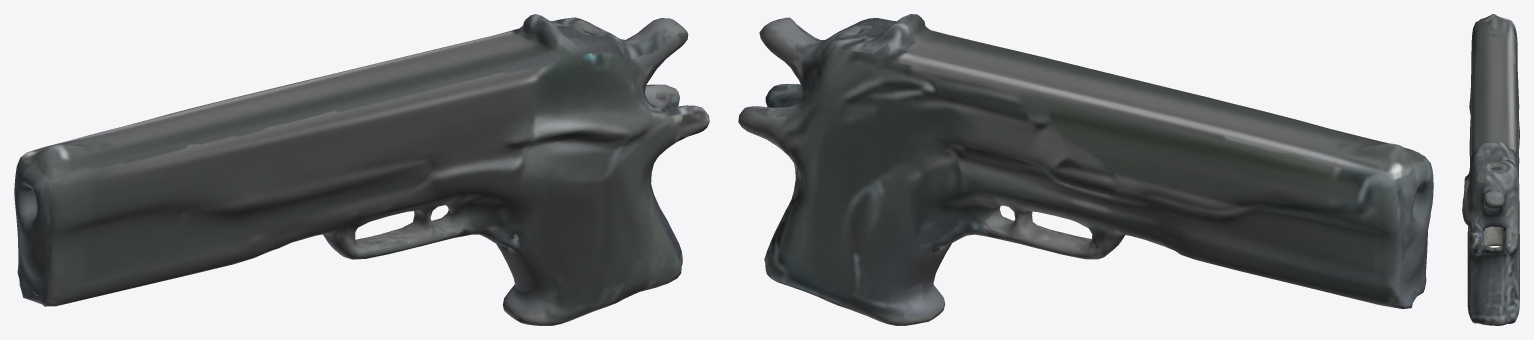
File: firing_pistol_textured_frame_000000.glb
3 views of the same model, side by side, from view 1: azimuth 30°, elevation 25°; view 2: azimuth 150°, elevation 25°; view 3: azimuth 270°, elevation 25° (orthographic). The views are drawn at different scales.
Visible parts, largest first — view 1: geometry_0; view 2: geometry_0; view 3: geometry_0.
Boxes of the visible parts, box(x1,y1,x2,y2) form: geometry_0: box(14, 14, 709, 325); geometry_0: box(738, 14, 1433, 325); geometry_0: box(1462, 14, 1519, 325).
Size of the model in its own units: 0.4092 by 0.1708 by 0.0559.
1 material, 1 textured.
